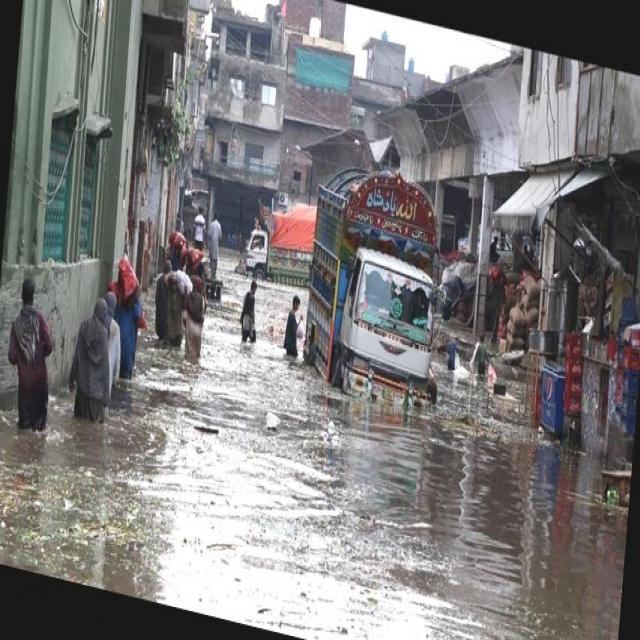flood: (0, 277, 635, 639)
